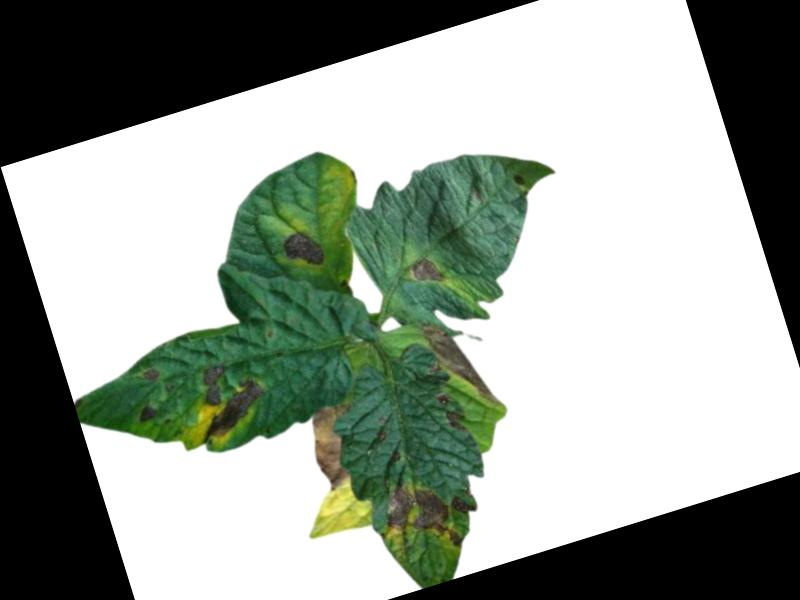Early_blight: (421, 307, 503, 418), (181, 352, 275, 444), (377, 471, 467, 566), (300, 397, 374, 492), (281, 225, 328, 275), (405, 248, 448, 289), (436, 388, 466, 435), (449, 490, 480, 521), (135, 401, 162, 424), (141, 363, 161, 382), (510, 169, 526, 188)
